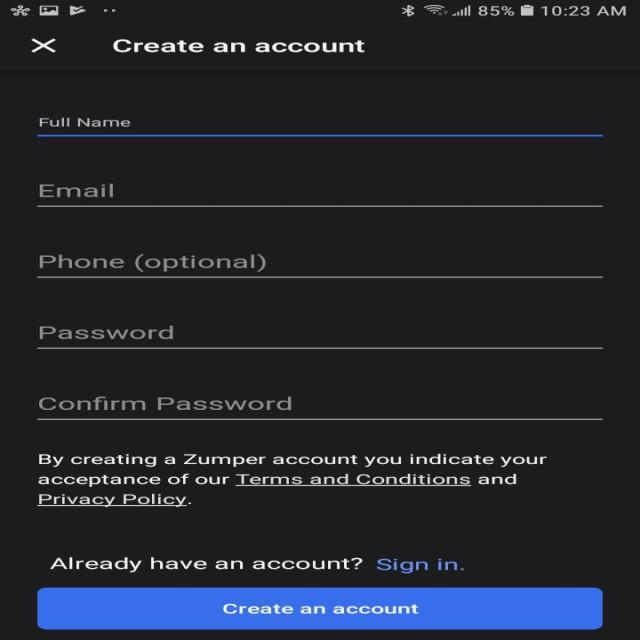EditText: (36, 253, 602, 278), (36, 396, 602, 420), (36, 325, 602, 349), (36, 183, 602, 207), (36, 117, 602, 137)
Icon: (31, 38, 57, 53)
Text: (36, 453, 546, 506), (49, 556, 464, 573), (40, 253, 267, 272), (38, 396, 291, 411), (112, 39, 364, 53), (39, 325, 173, 340), (39, 184, 114, 198), (38, 117, 131, 127)
TextButton: (37, 587, 603, 629)
